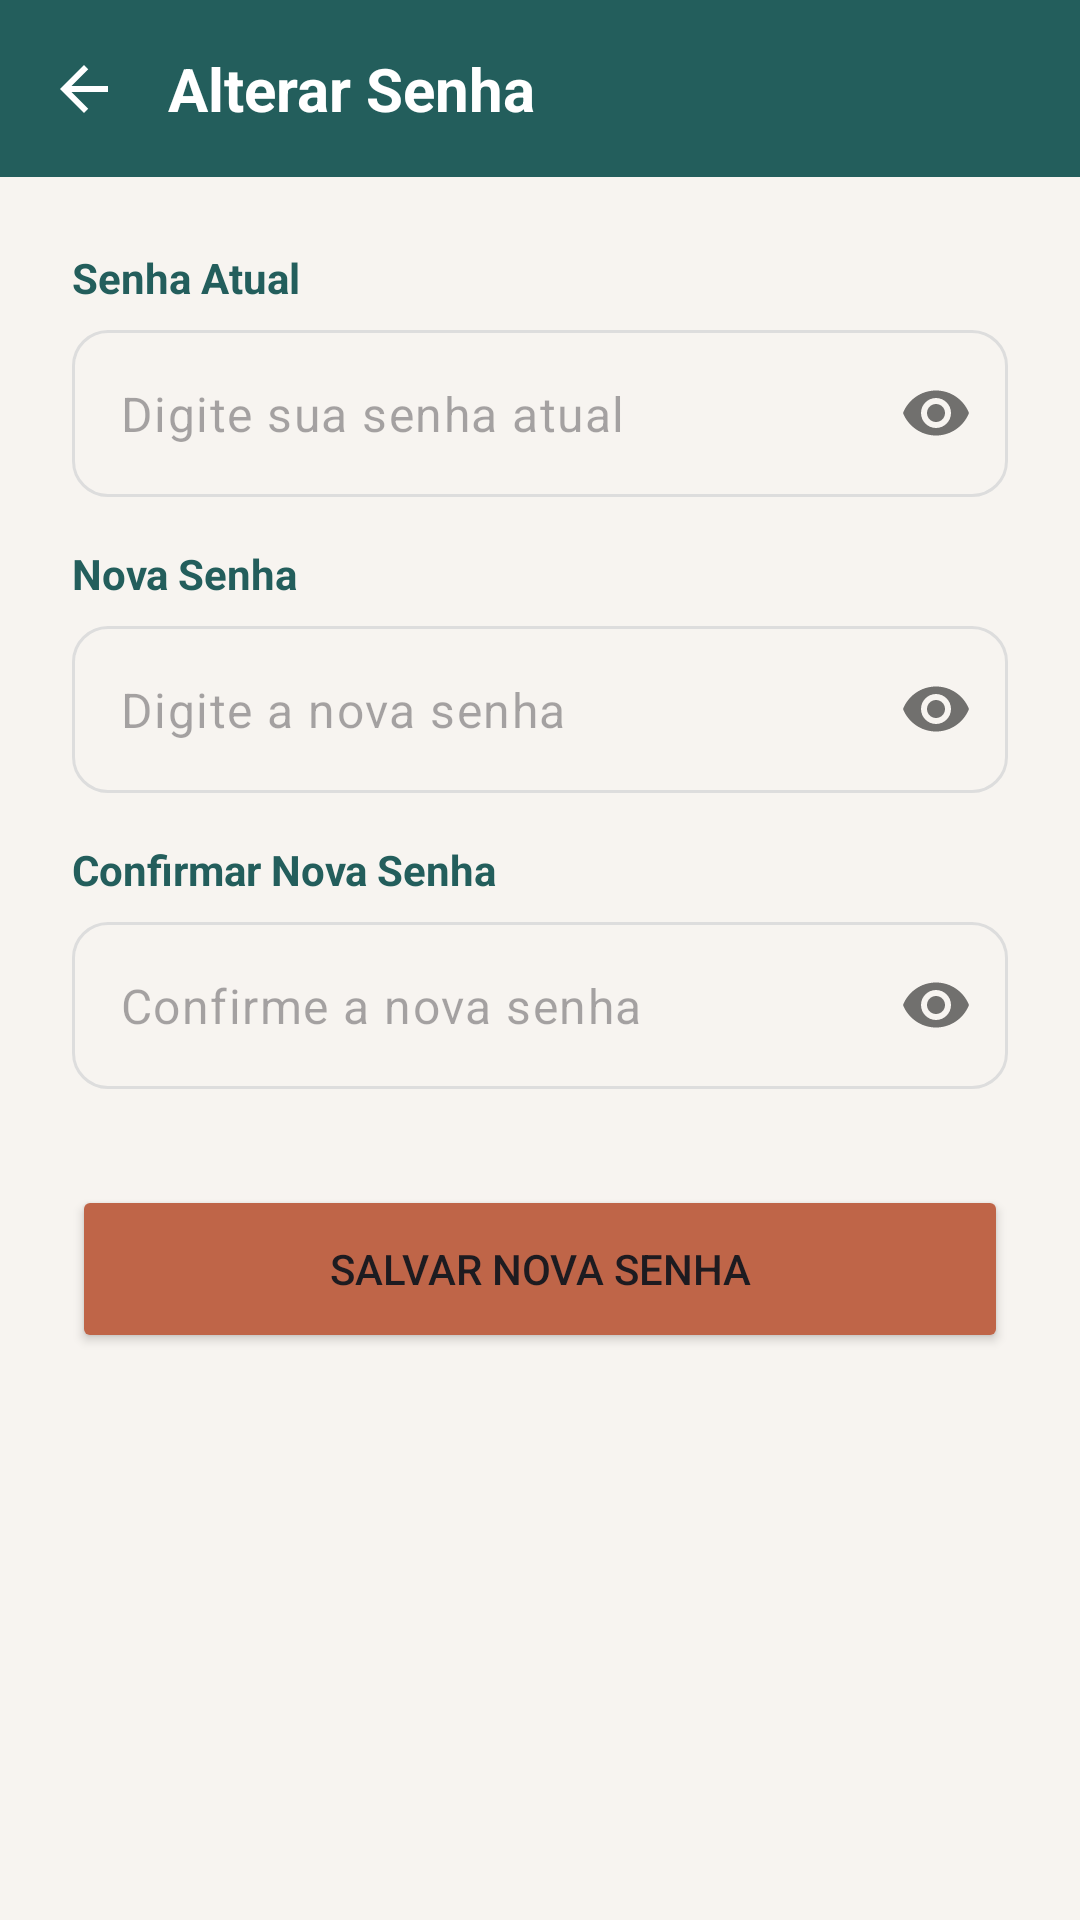

Icon bounding boxes for this 1080 × 1920 phone screenshot, format (x1, y1, x2, y2):
Voltar: (60, 65, 108, 113)
